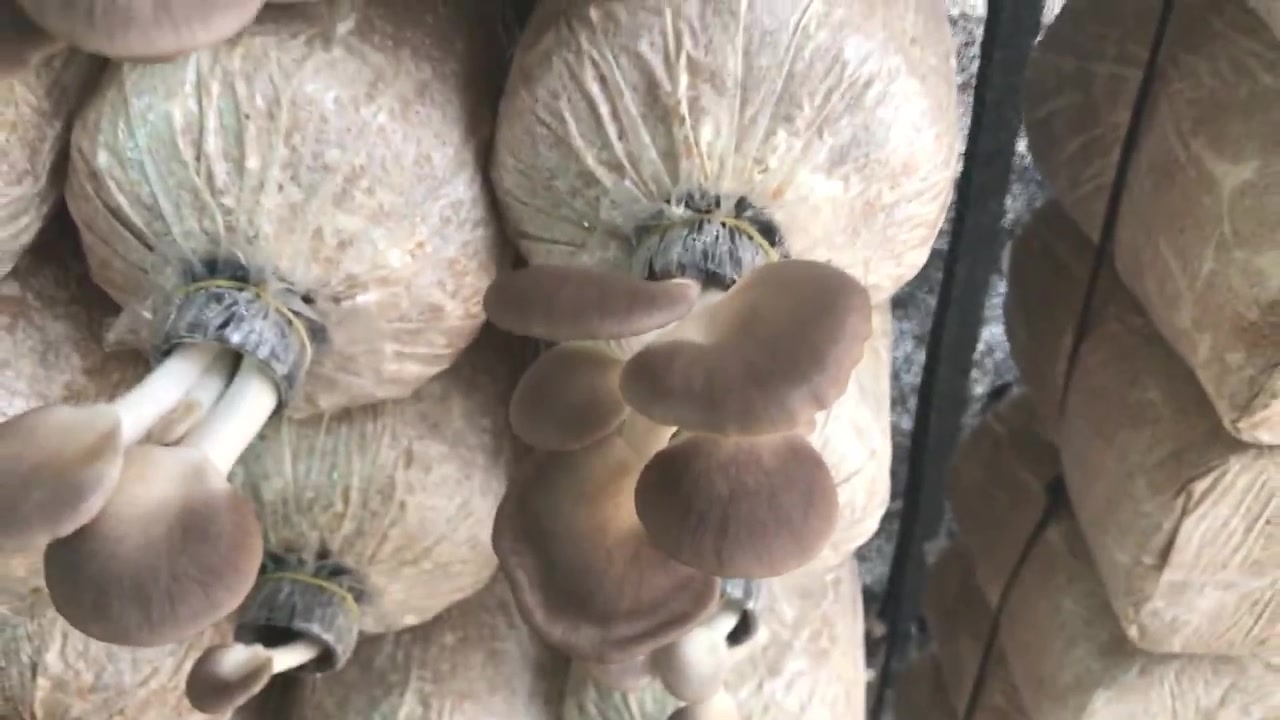nam: (483, 212, 870, 660), (1, 281, 303, 648), (186, 573, 367, 713), (20, 1, 263, 57)
